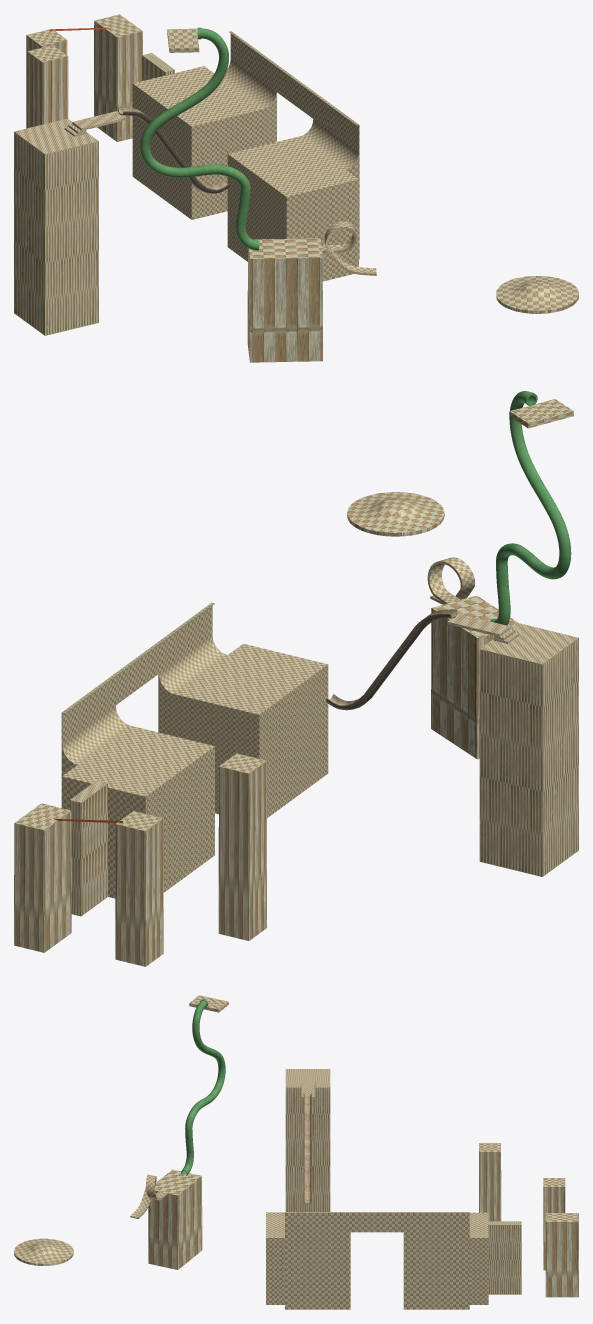
File: Tutorial10.obj
3 views of the same model, one above another, from view 1: azimuth 30°, elevation 25°; view 2: azimuth 150°, elevation 25°; view 3: azimuth 270°, elevation 25° (orthographic). The views are drawn at different scales.
Bounding box in the file's own units: 6229 × 5374 × 11754.
Materials: 5 (5 with a texture image).
